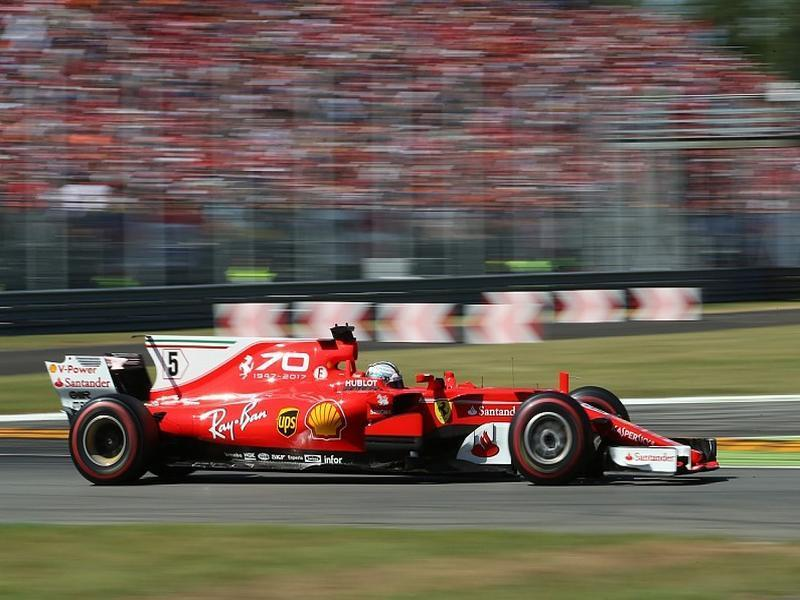f1: (47, 324, 738, 496)
